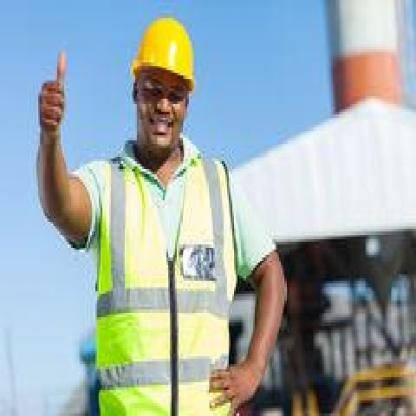helmet: (123, 0, 203, 169)
